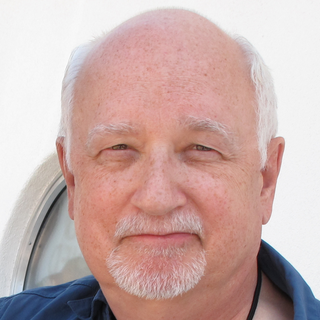eye: (168, 138, 233, 166), (94, 136, 150, 162)
